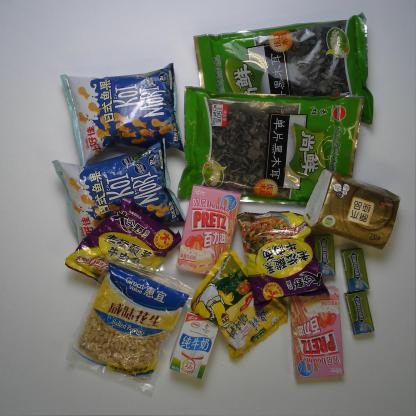Dessert: (176, 184, 242, 276), (289, 286, 344, 379)
Dried Food: (177, 85, 366, 206), (192, 10, 374, 126)
Dried Fruit: (65, 252, 195, 400)
Gum: (344, 289, 375, 336), (340, 247, 370, 293), (314, 232, 336, 276)
Instant Noodles: (63, 197, 182, 289), (237, 210, 330, 312)
Milk: (168, 312, 218, 380)
Puffed Food: (52, 137, 186, 247), (60, 62, 184, 168)
Seasoner: (188, 249, 288, 361)
Tissue: (303, 168, 400, 250)
